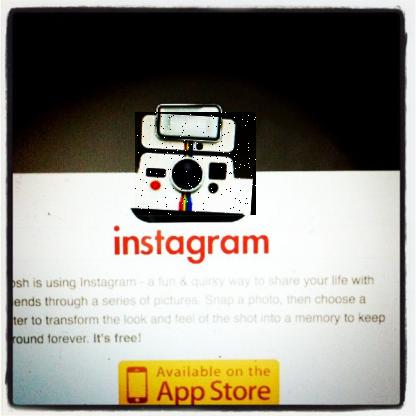Camera: (136, 113, 258, 217)
